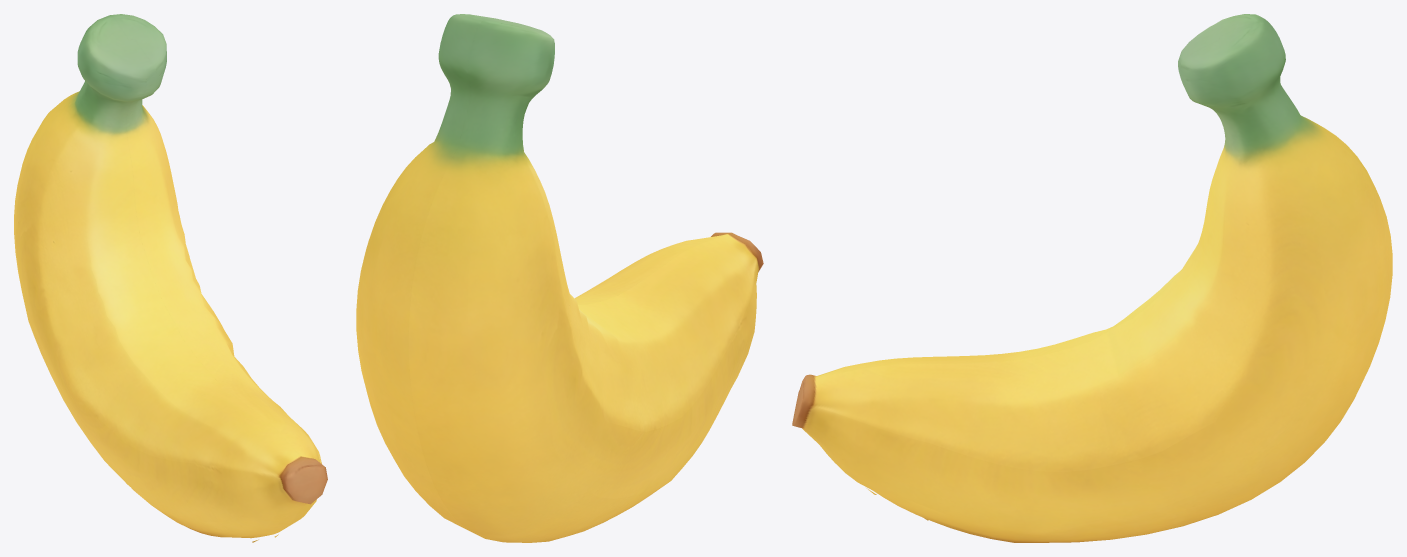
Rendered from base_basic_shaded.fbx.
3 views of the same model, side by side, from view 1: azimuth 30°, elevation 25°; view 2: azimuth 150°, elevation 25°; view 3: azimuth 270°, elevation 25° (orthographic). The views are drawn at different scales.
Visible parts, largest first — view 1: model; view 2: model; view 3: model.
Boxes of the visible parts, x1,y1,x2,y2 form: model: (14, 14, 327, 542); model: (356, 14, 763, 542); model: (792, 14, 1392, 542).
Size of the model in its own units: 65.72 by 173 by 183.
